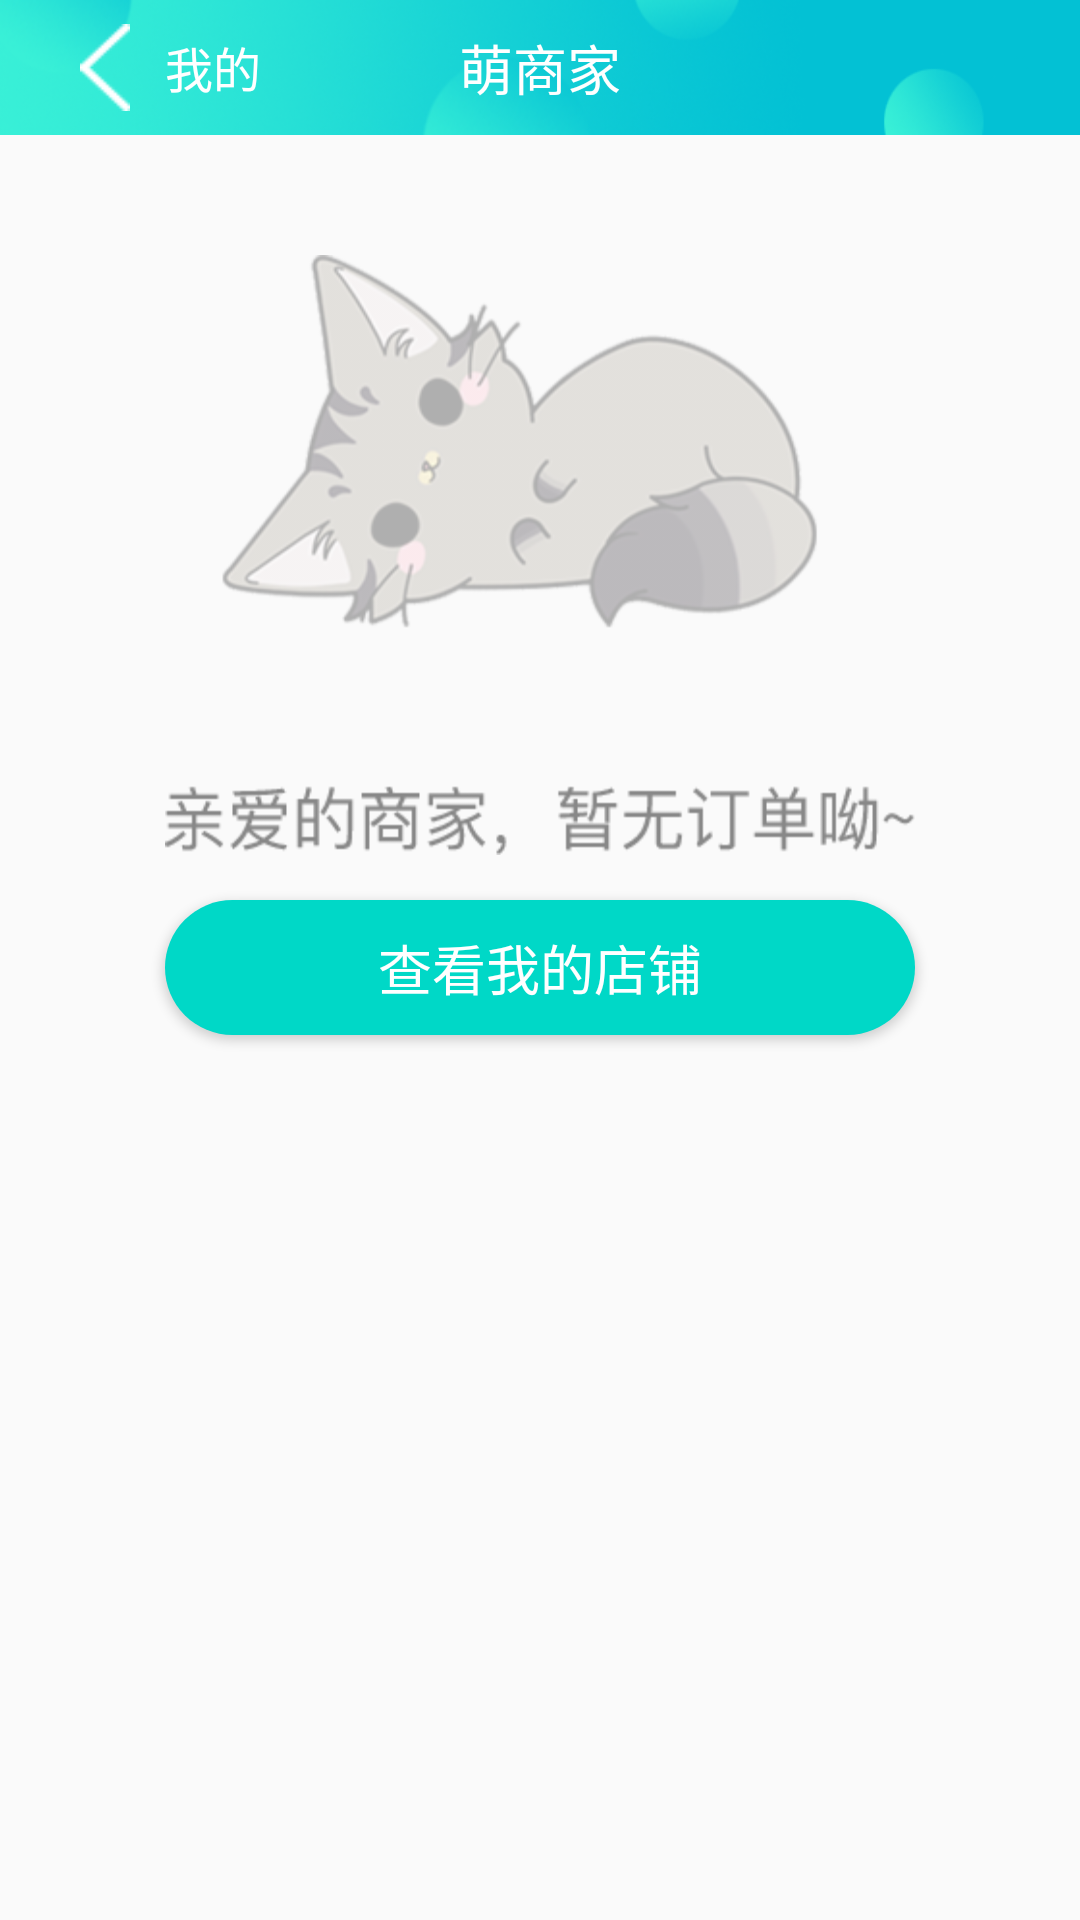

Locate icon controls on the screen. Image size 1080 × 1920, boxes as (x1, y1, x2, y2).
return arraw: (80, 0, 130, 111)
